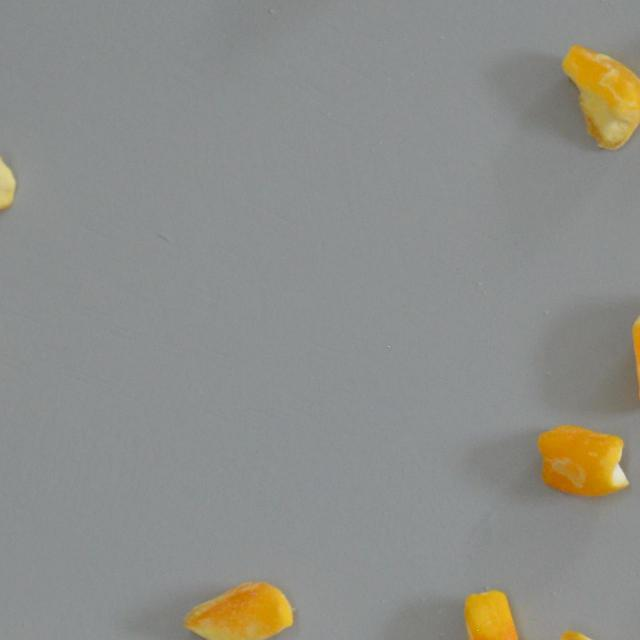estandar: (0, 151, 15, 226)
pelicula: (560, 39, 640, 152), (536, 424, 630, 498), (182, 579, 294, 640), (462, 588, 524, 640), (631, 289, 640, 414), (552, 628, 640, 640)
